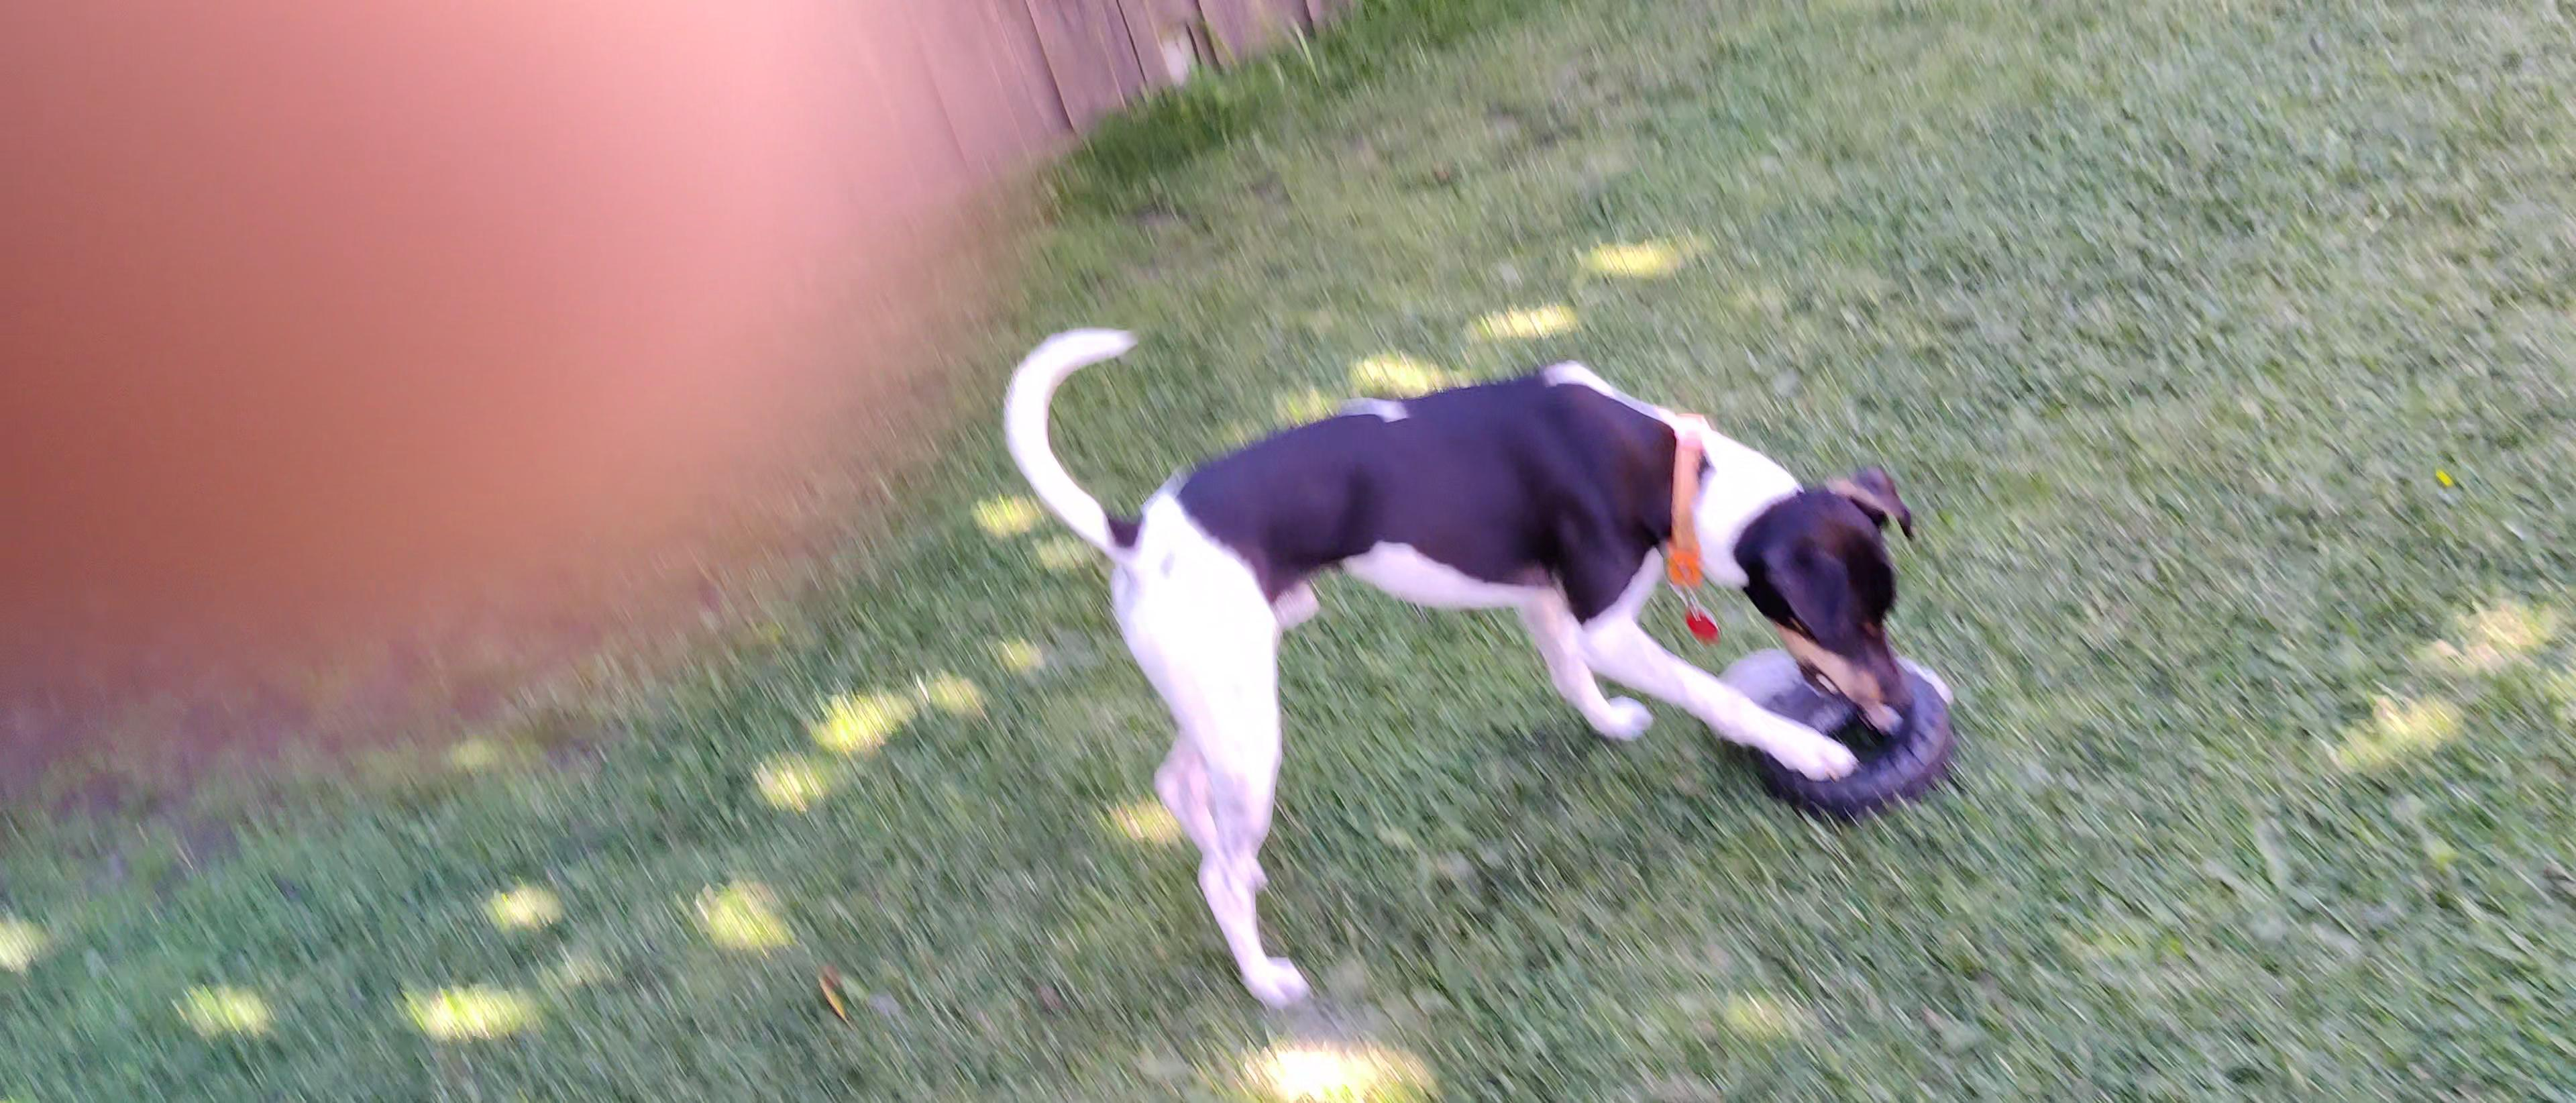Dog: (973, 273, 1966, 1027)
